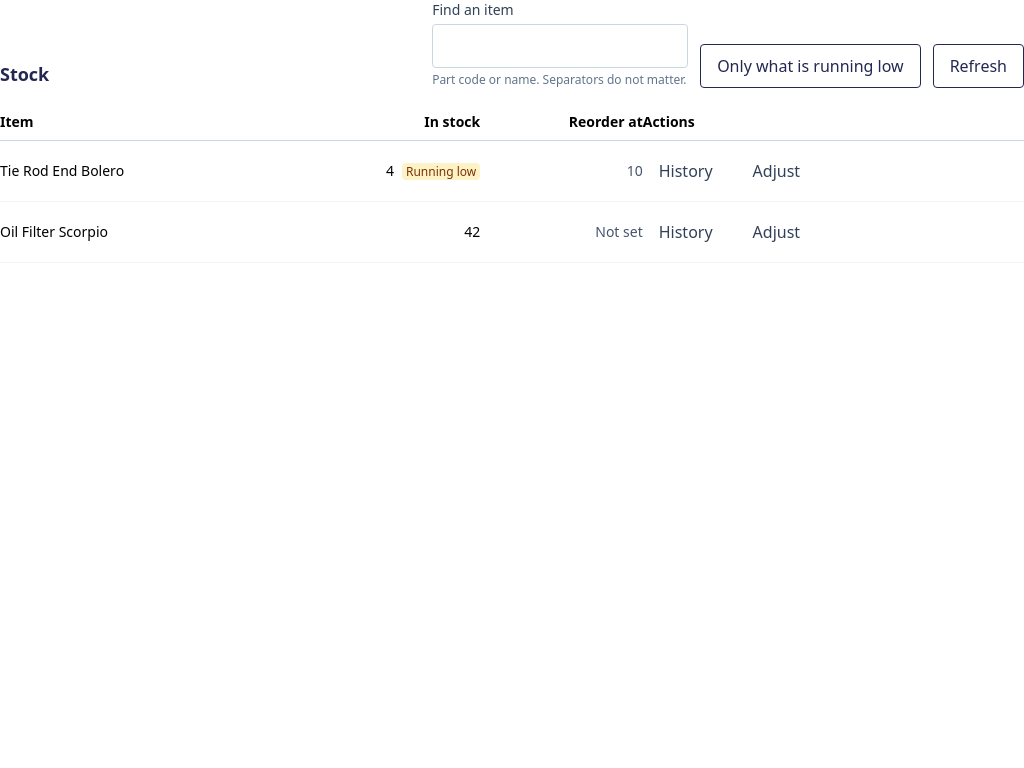
Test: FR-INV-002 — the ledger is the only writer › refuses an adjustment with no reason
Check: the text "Tie Rod End Bolero" is shown, box [0,141,273,202]
Click the button "Adjust" in the row of "Tie Rod End Bolero" at {"x": 776, "y": 171}, box [737,149,816,193]
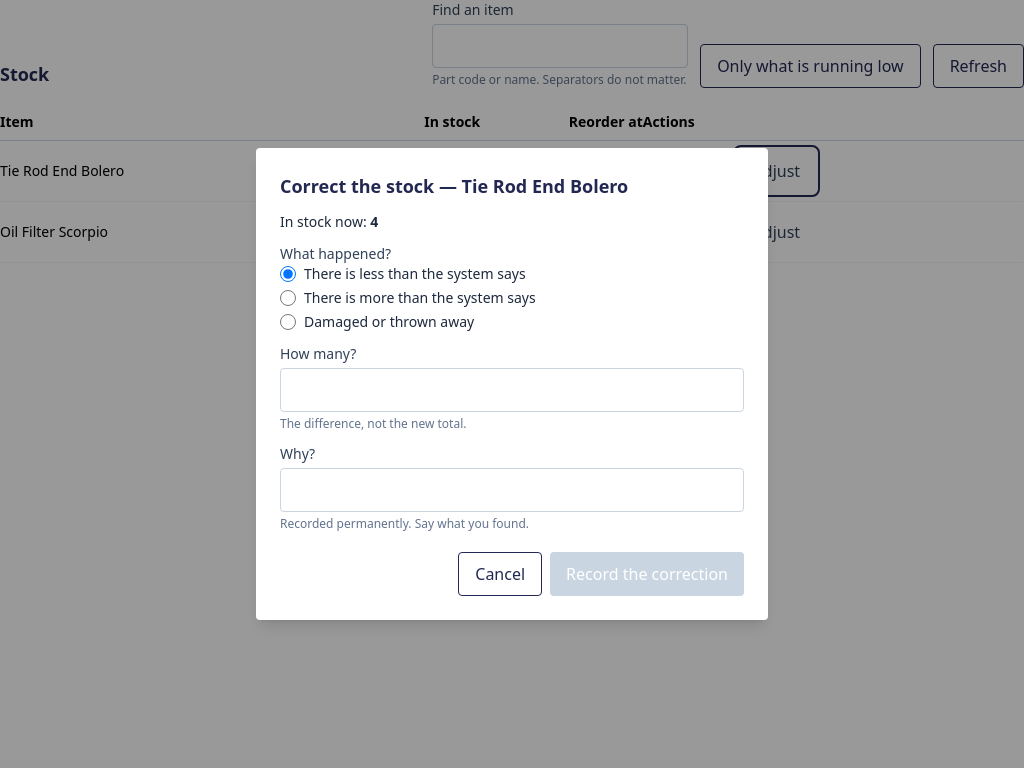
Type "2" into the field labelled "How many?" at {"x": 512, "y": 390}, box [280,368,744,412]
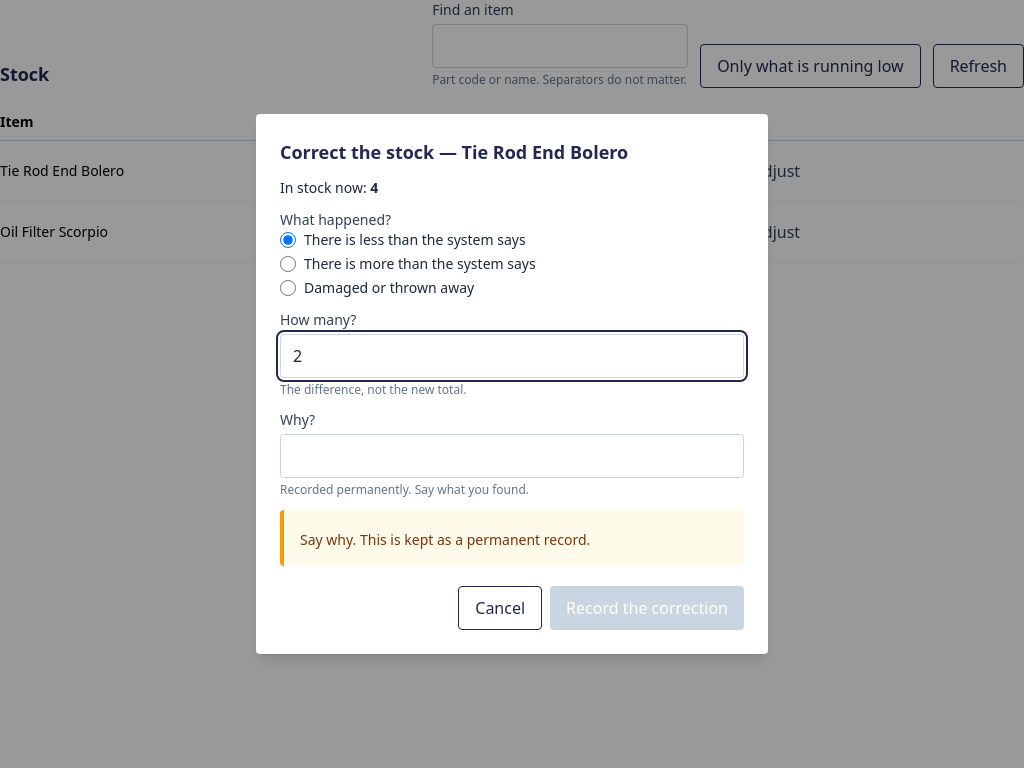
Check: the button "Record the correction" is disabled, box [550,586,744,630]
Check: the text "Say why. This is kept as a permanent record." is shown, box [300,530,590,549]
